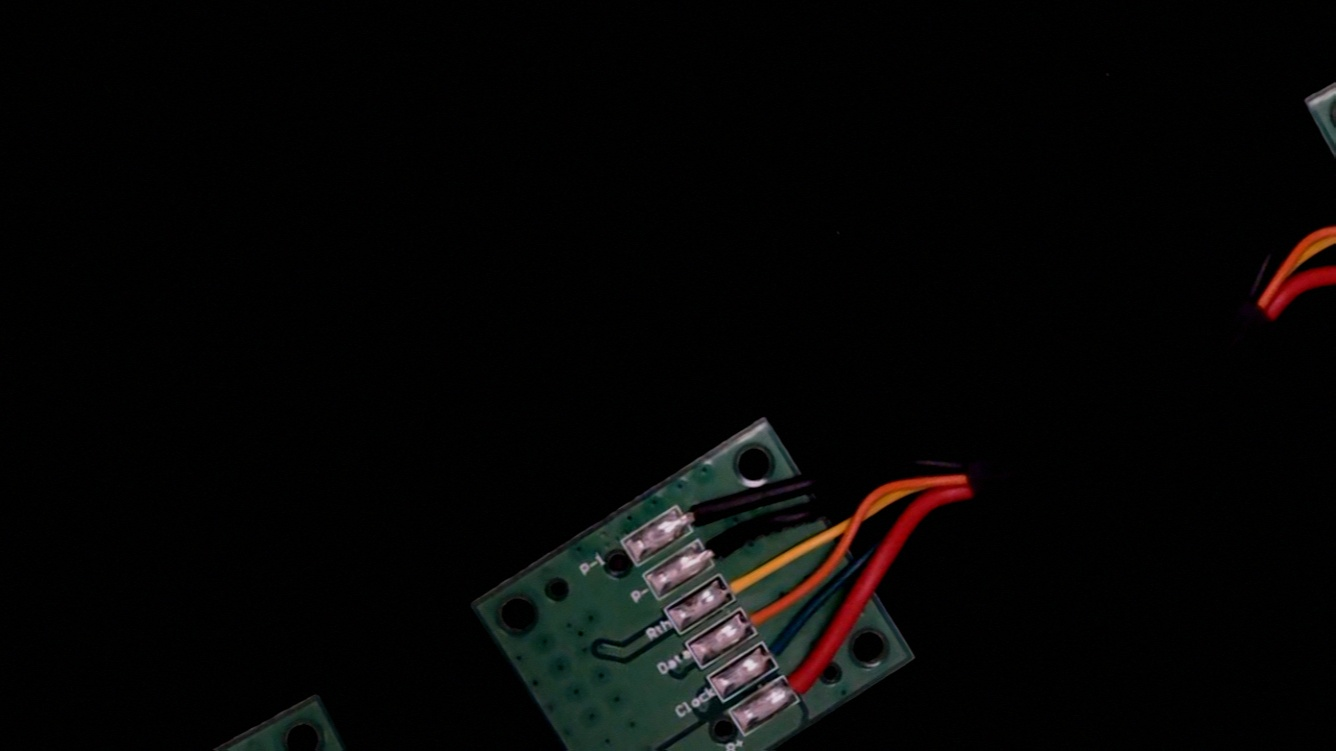Black: (684, 510, 768, 579)
Black1: (663, 476, 741, 541)
Green: (746, 612, 827, 679)
Orange: (727, 580, 809, 647)
Red: (766, 645, 847, 713)
Yellow: (706, 543, 790, 612)
